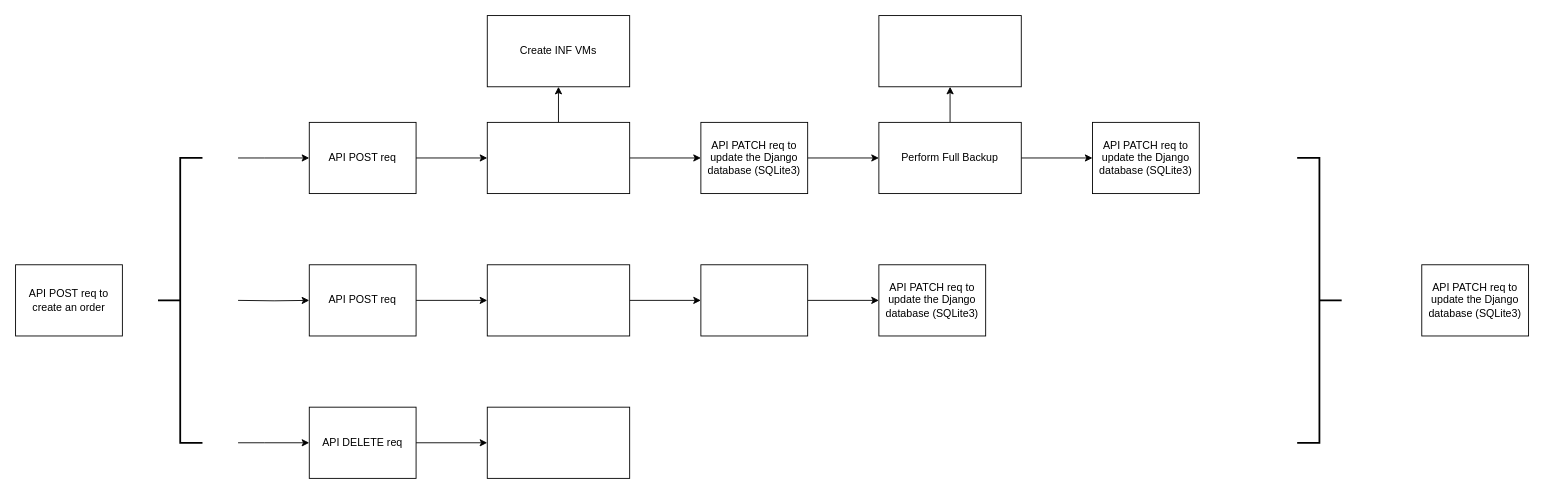
The diagram is 1544 pixels wide and 494 high, and some of its shapes have lost their labels. Each missing label, with the box of its shape:
Delete VM: (486, 406, 630, 478)
Perform Restore: (486, 264, 630, 336)
Rsync the backup from INF to VM: (700, 264, 808, 336)
Rsync the backup to the INF VM: (878, 15, 1021, 87)
Start VM provisioning: (486, 121, 630, 194)
